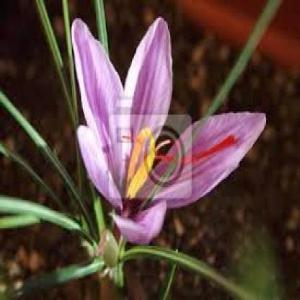Saffron: (70, 15, 268, 239)
